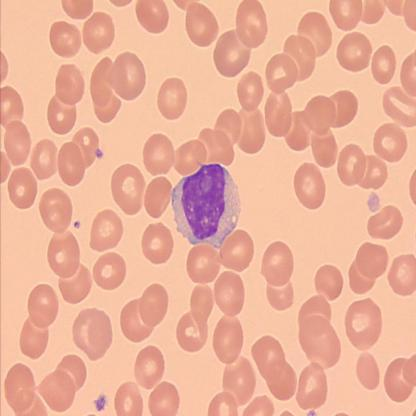Atypical lymphocyte: (170, 161, 241, 248)
